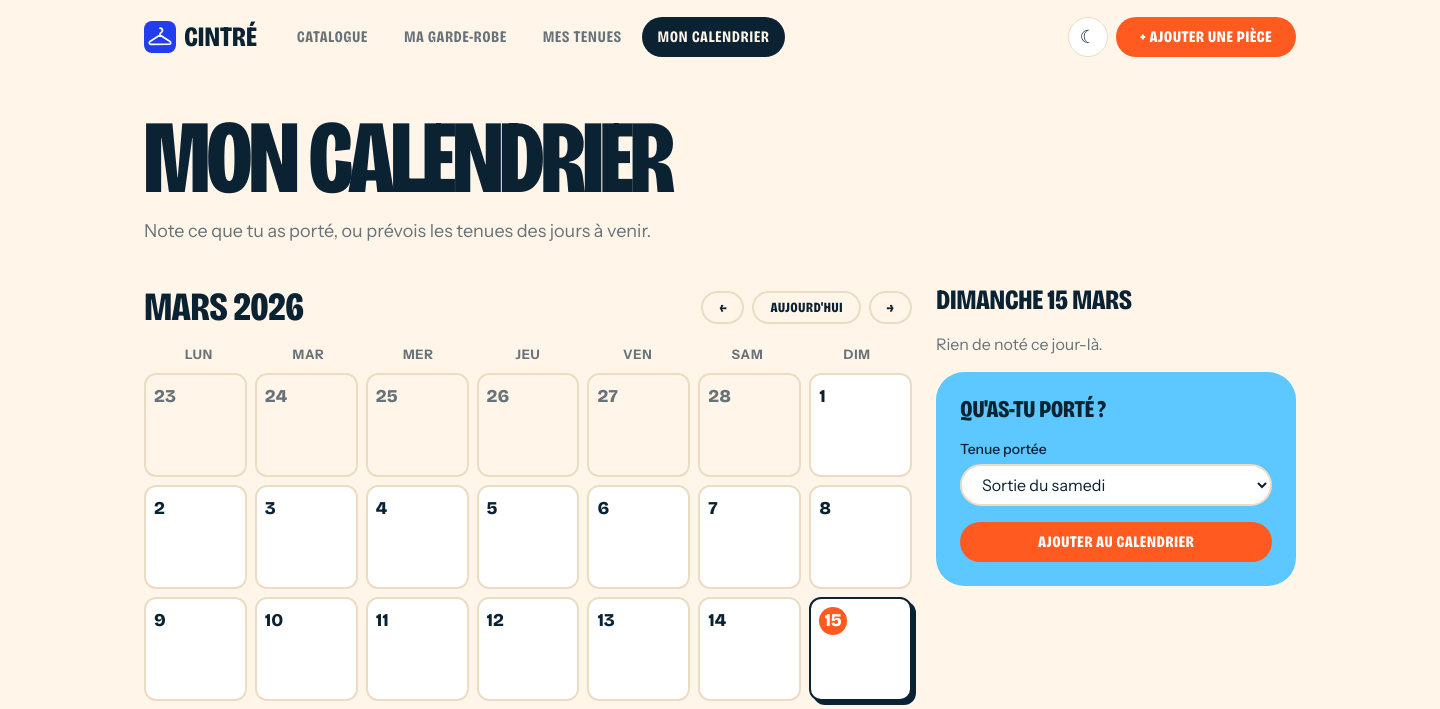
Test: Calendrier : navigation › change de mois avec les flèches
This screenshot has width=1440, height=709.
Click the button named "Mois suivant".
click(890, 307)  # box x1=869 y1=291 x2=912 y2=324
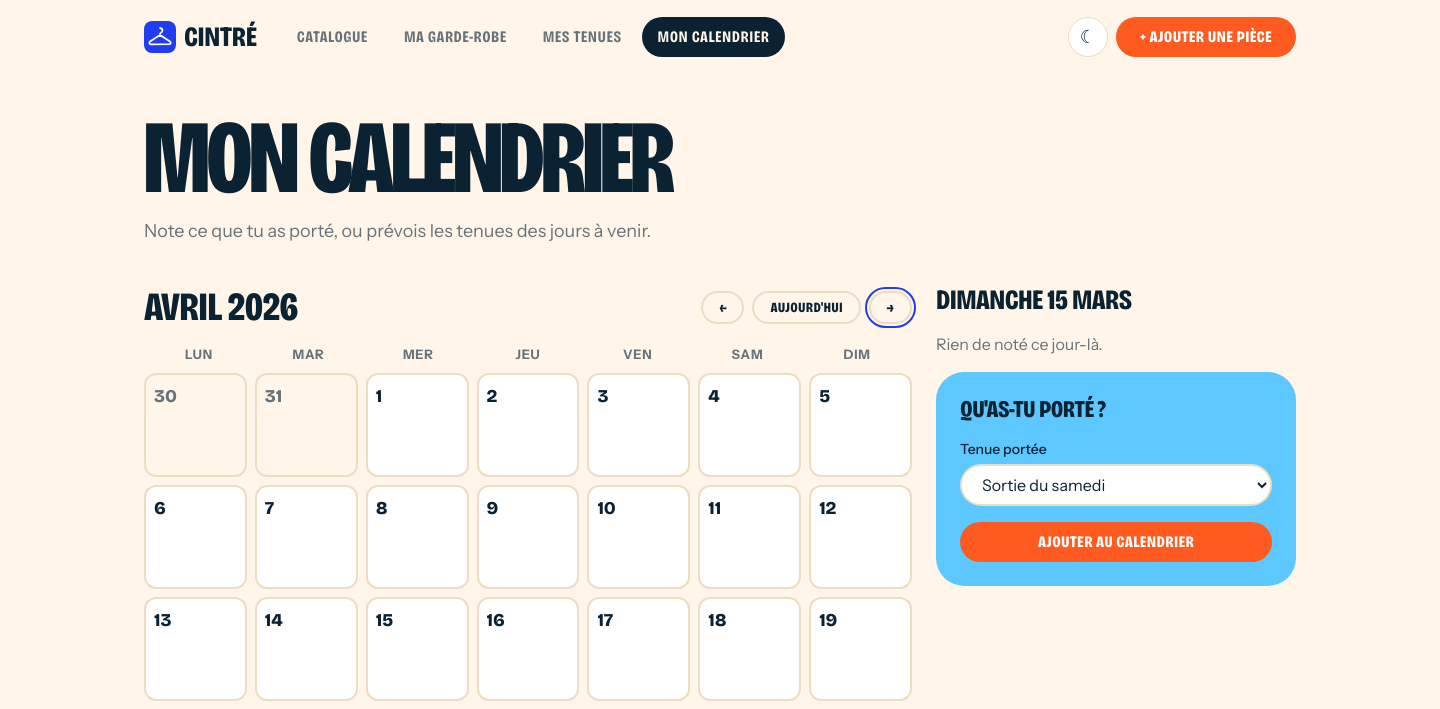
Check: the heading "avril 2026" is shown, box x1=144 y1=285 x2=298 y2=329
Click the button named "Mois précédent".
click(723, 307)  # box x1=702 y1=291 x2=744 y2=324
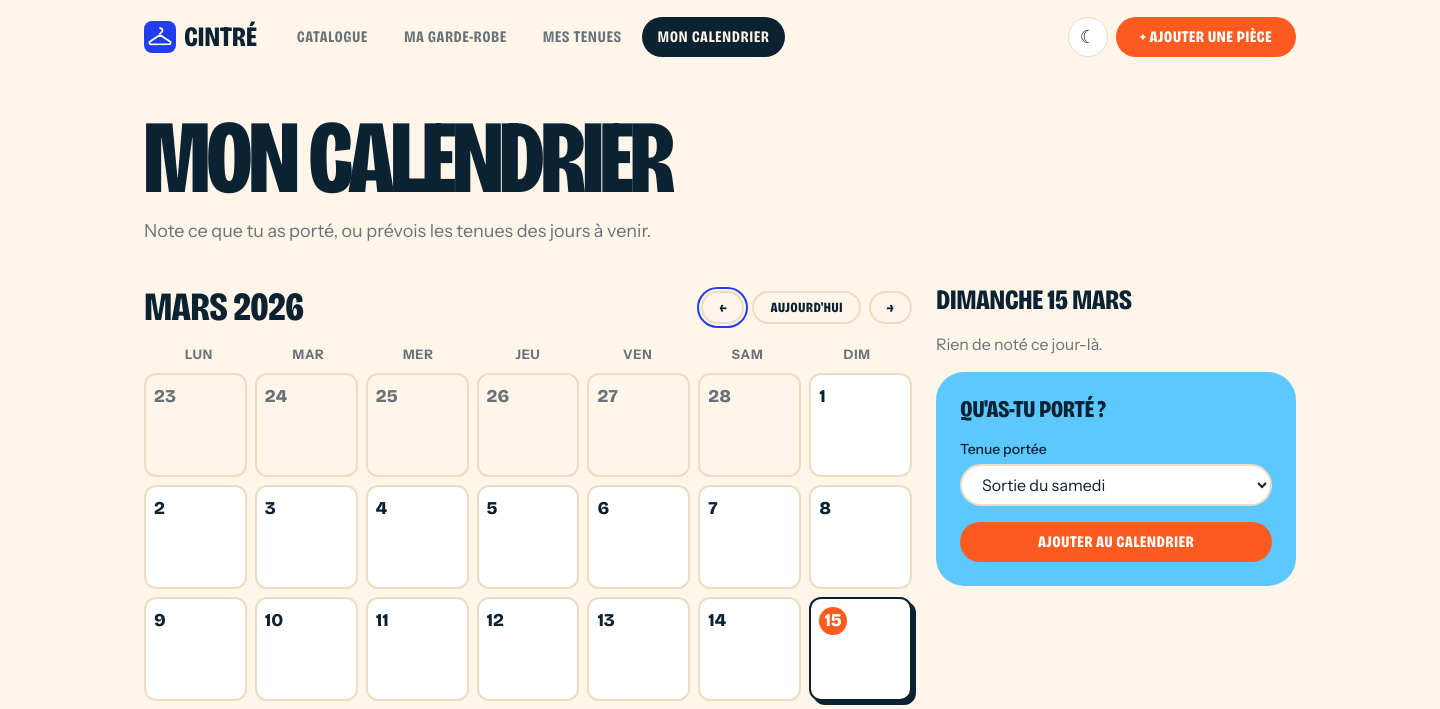
Click the button named "Mois précédent".
click(723, 307)  # box x1=702 y1=291 x2=744 y2=324
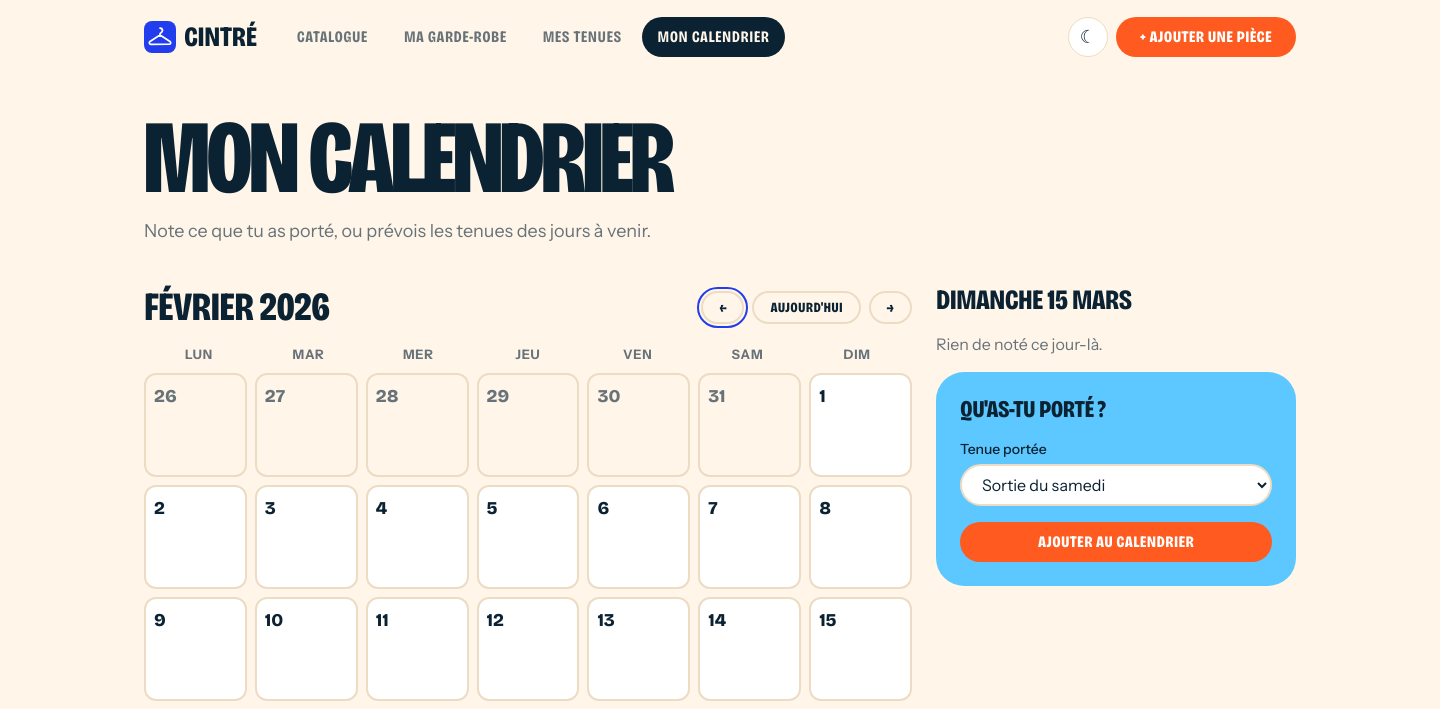
Check: the heading "février 2026" is shown, box x1=144 y1=285 x2=329 y2=329
